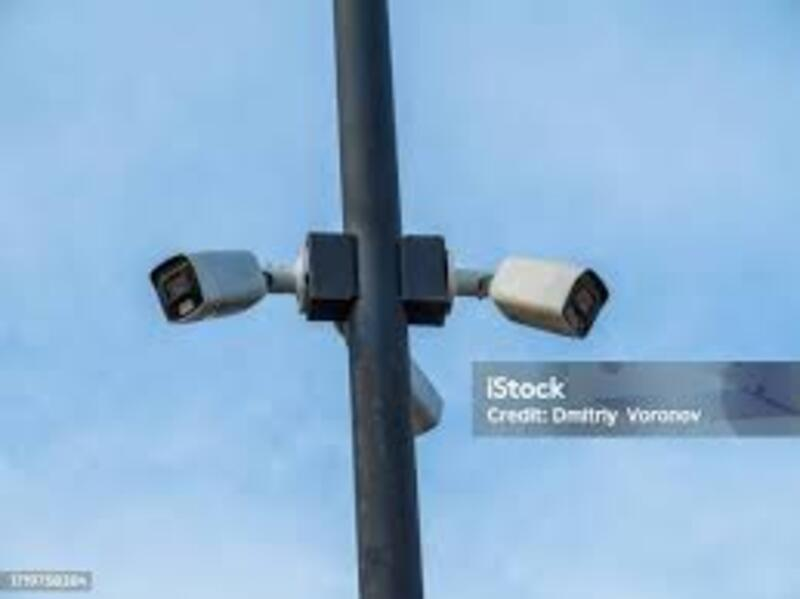bullet: (477, 250, 618, 337), (132, 236, 266, 325)
